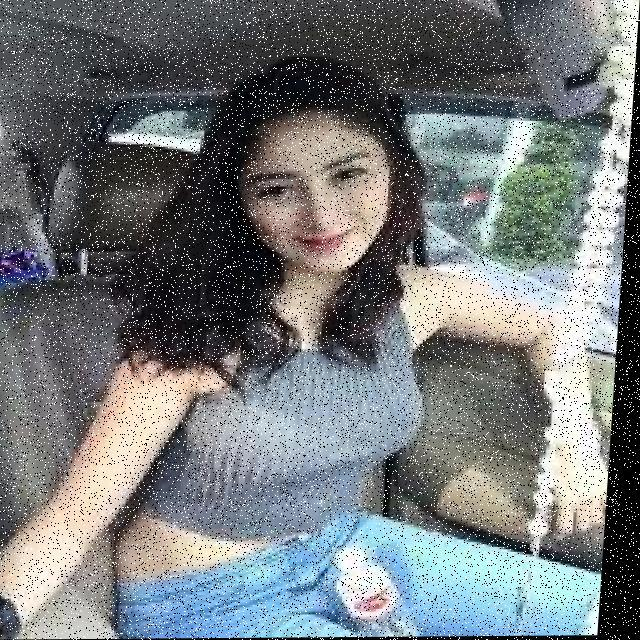noSeatbelt: (132, 264, 459, 552)
